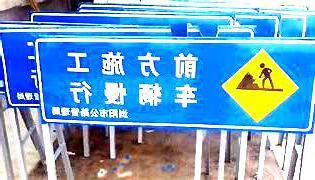sign: (37, 38, 312, 130)
